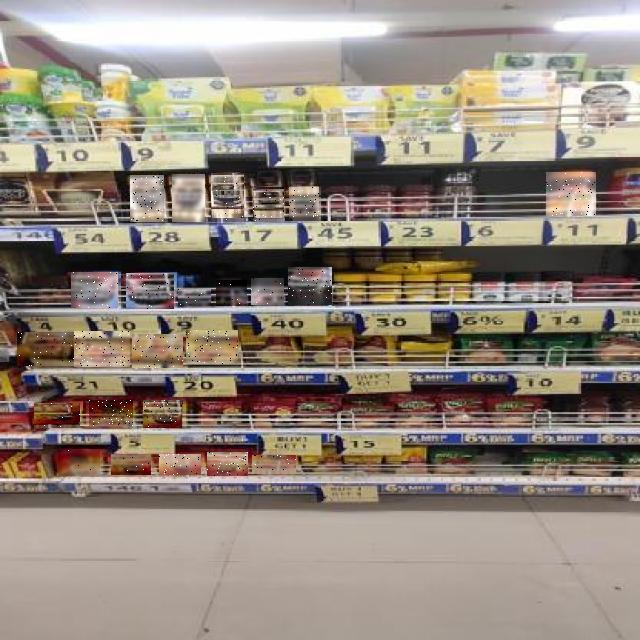Coffee: (546, 172, 596, 216), (75, 331, 131, 367), (17, 332, 74, 366), (187, 330, 239, 364), (132, 334, 183, 368), (126, 273, 174, 309), (71, 272, 118, 308), (288, 267, 332, 305), (130, 175, 164, 222), (211, 174, 244, 222), (172, 175, 205, 223), (144, 400, 186, 428), (89, 400, 133, 426), (35, 404, 81, 428), (58, 450, 100, 476), (253, 188, 284, 222), (289, 187, 319, 221), (207, 452, 248, 476), (251, 278, 284, 305), (159, 454, 201, 475), (111, 454, 151, 475), (216, 280, 247, 306), (252, 456, 296, 474), (178, 290, 211, 306)
